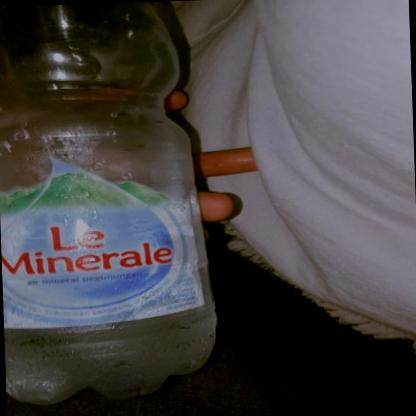plastic_bottles: (0, 0, 223, 403)
